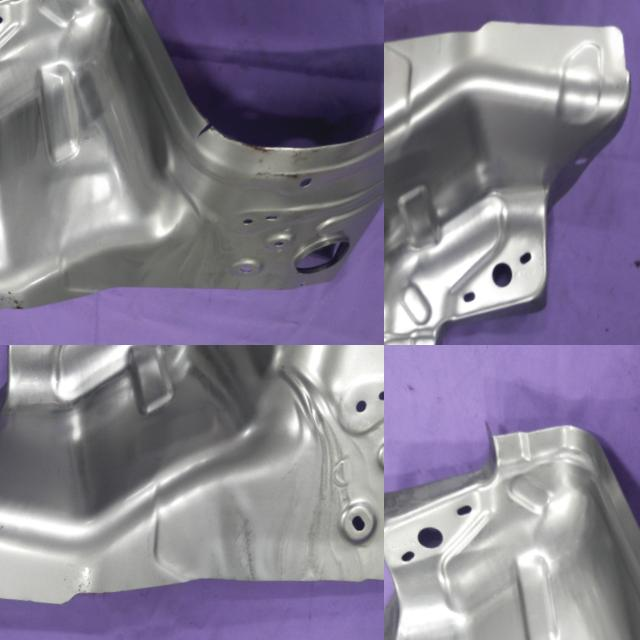Defect: (185, 90, 232, 167)
Healthy: (384, 0, 640, 345), (384, 395, 640, 640)
rust: (235, 118, 321, 196)
